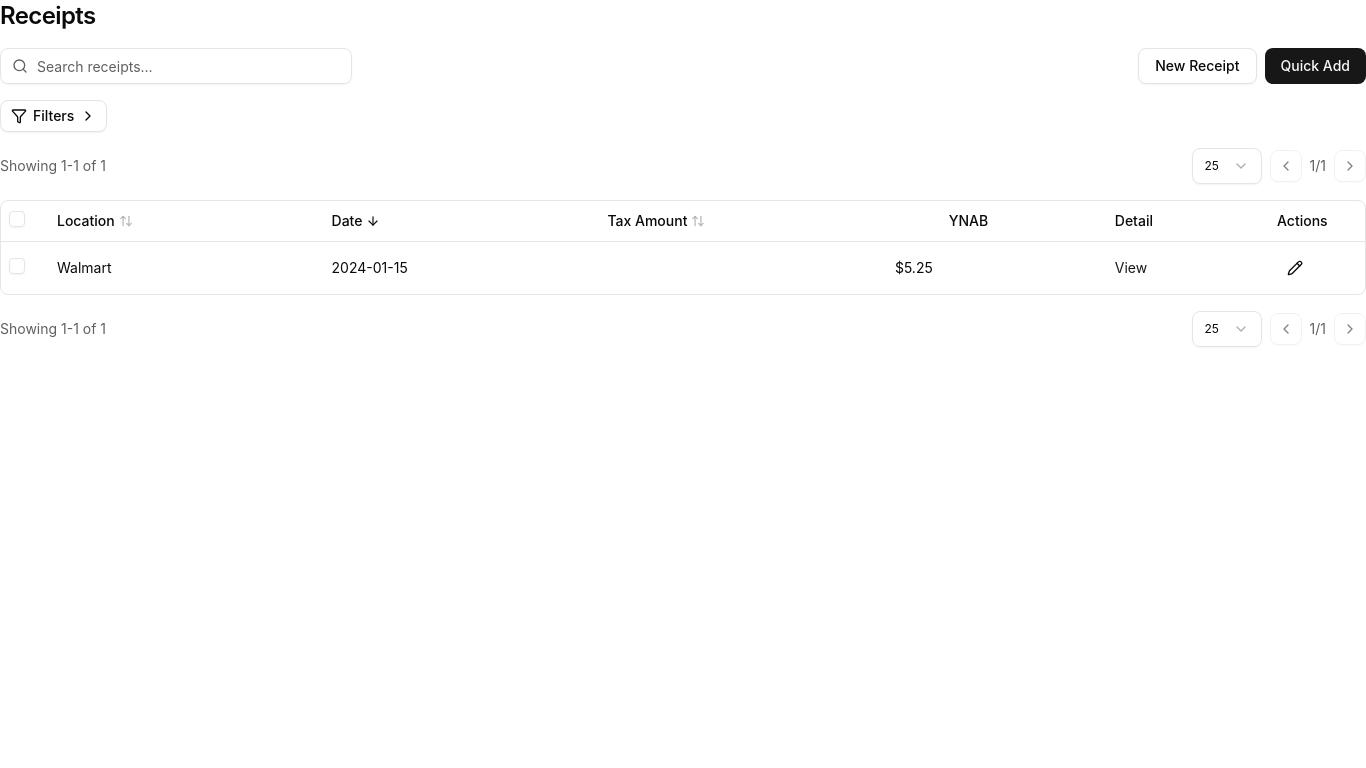
Test case: Receipts › opens edit dialog when Edit button is clicked
This screenshot has width=1366, height=768.
Click the button named "edit" at (1295, 268), box [1277, 250, 1313, 286]
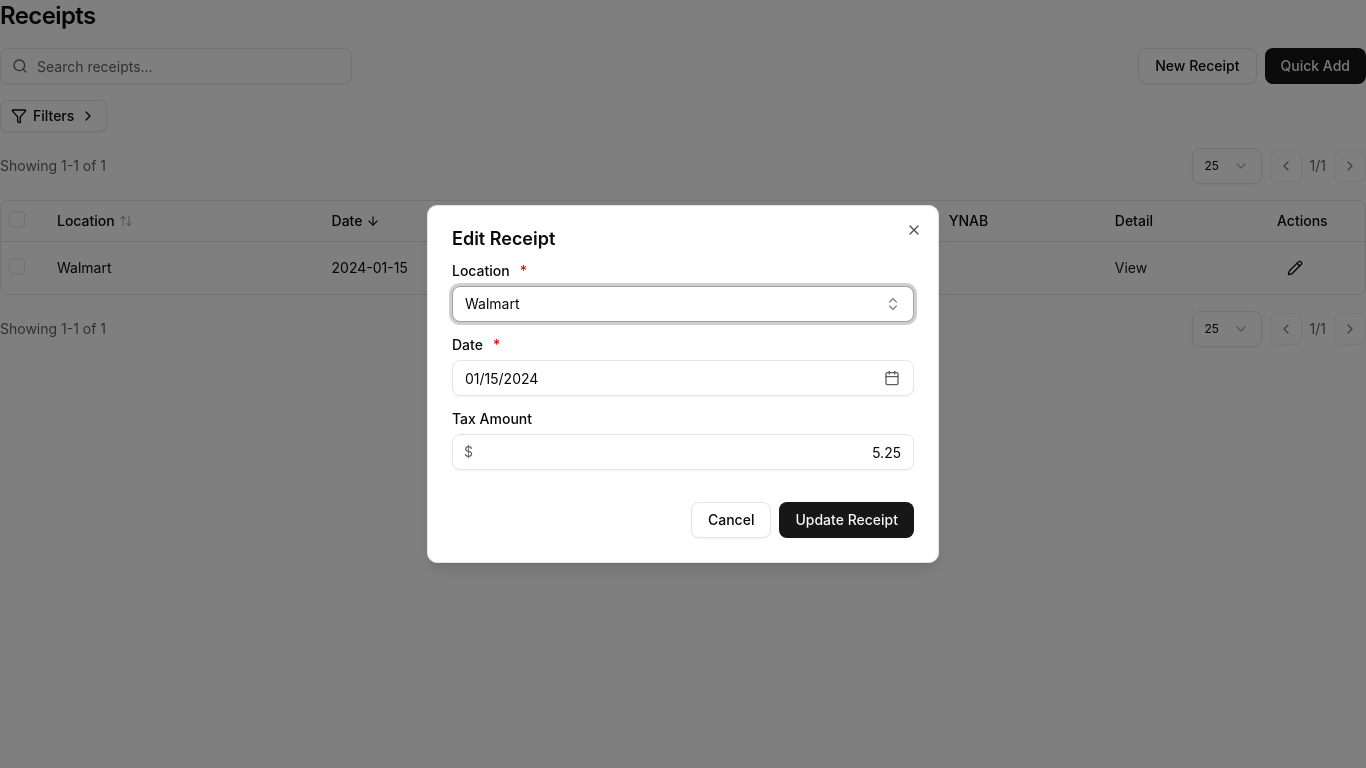
Check: the heading "Edit Receipt" is shown, box [452, 228, 555, 249]
